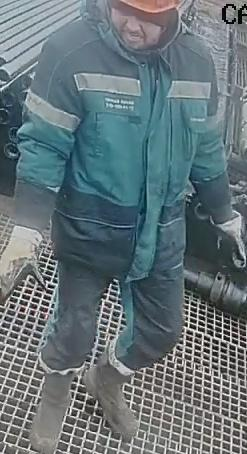gloves: (0, 225, 45, 297), (209, 209, 246, 270)
helmet: (111, 0, 179, 21)
vest: (28, 28, 216, 264)
